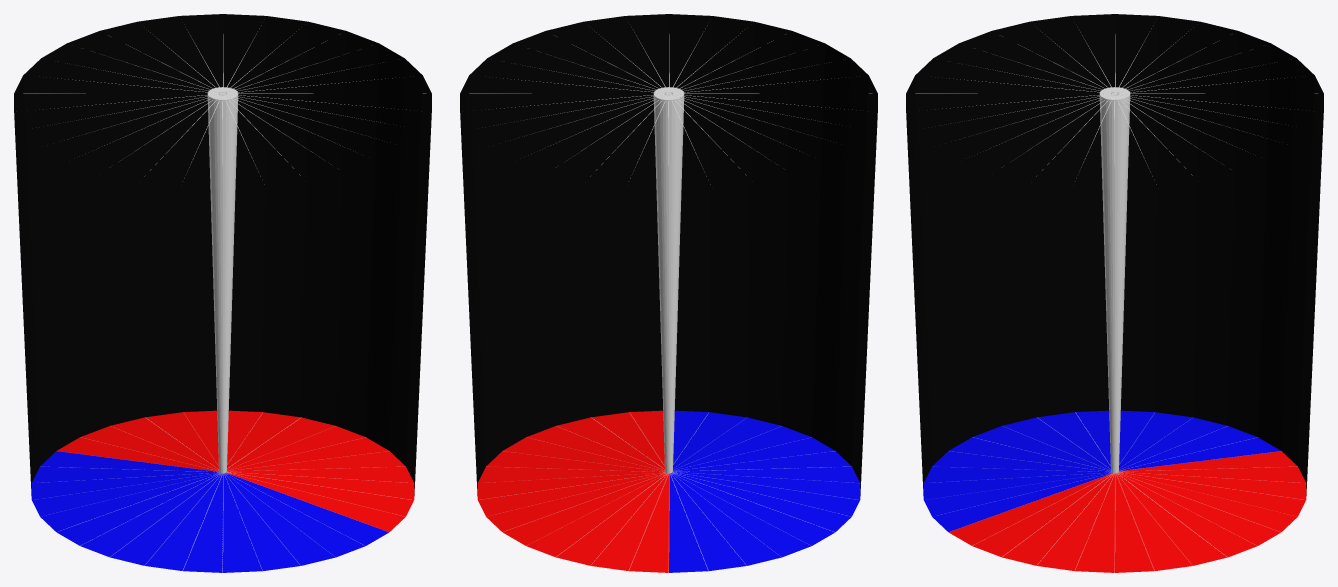
3 views of the same model, side by side, from view 1: azimuth 30°, elevation 25°; view 2: azimuth 150°, elevation 25°; view 3: azimuth 270°, elevation 25° (orthographic).
Parts seen in each view (by area): view 1: algeomath (1); view 2: algeomath (1); view 3: algeomath (1).
Boxes of the visible parts, <box> form: algeomath (1): <box>14,14,431,572</box>; algeomath (1): <box>460,14,877,572</box>; algeomath (1): <box>906,14,1323,572</box>.
Bounding box in the file's own units: 0.2869 × 0.3 × 0.2854.
Materials: 1 (1 with a texture image).
